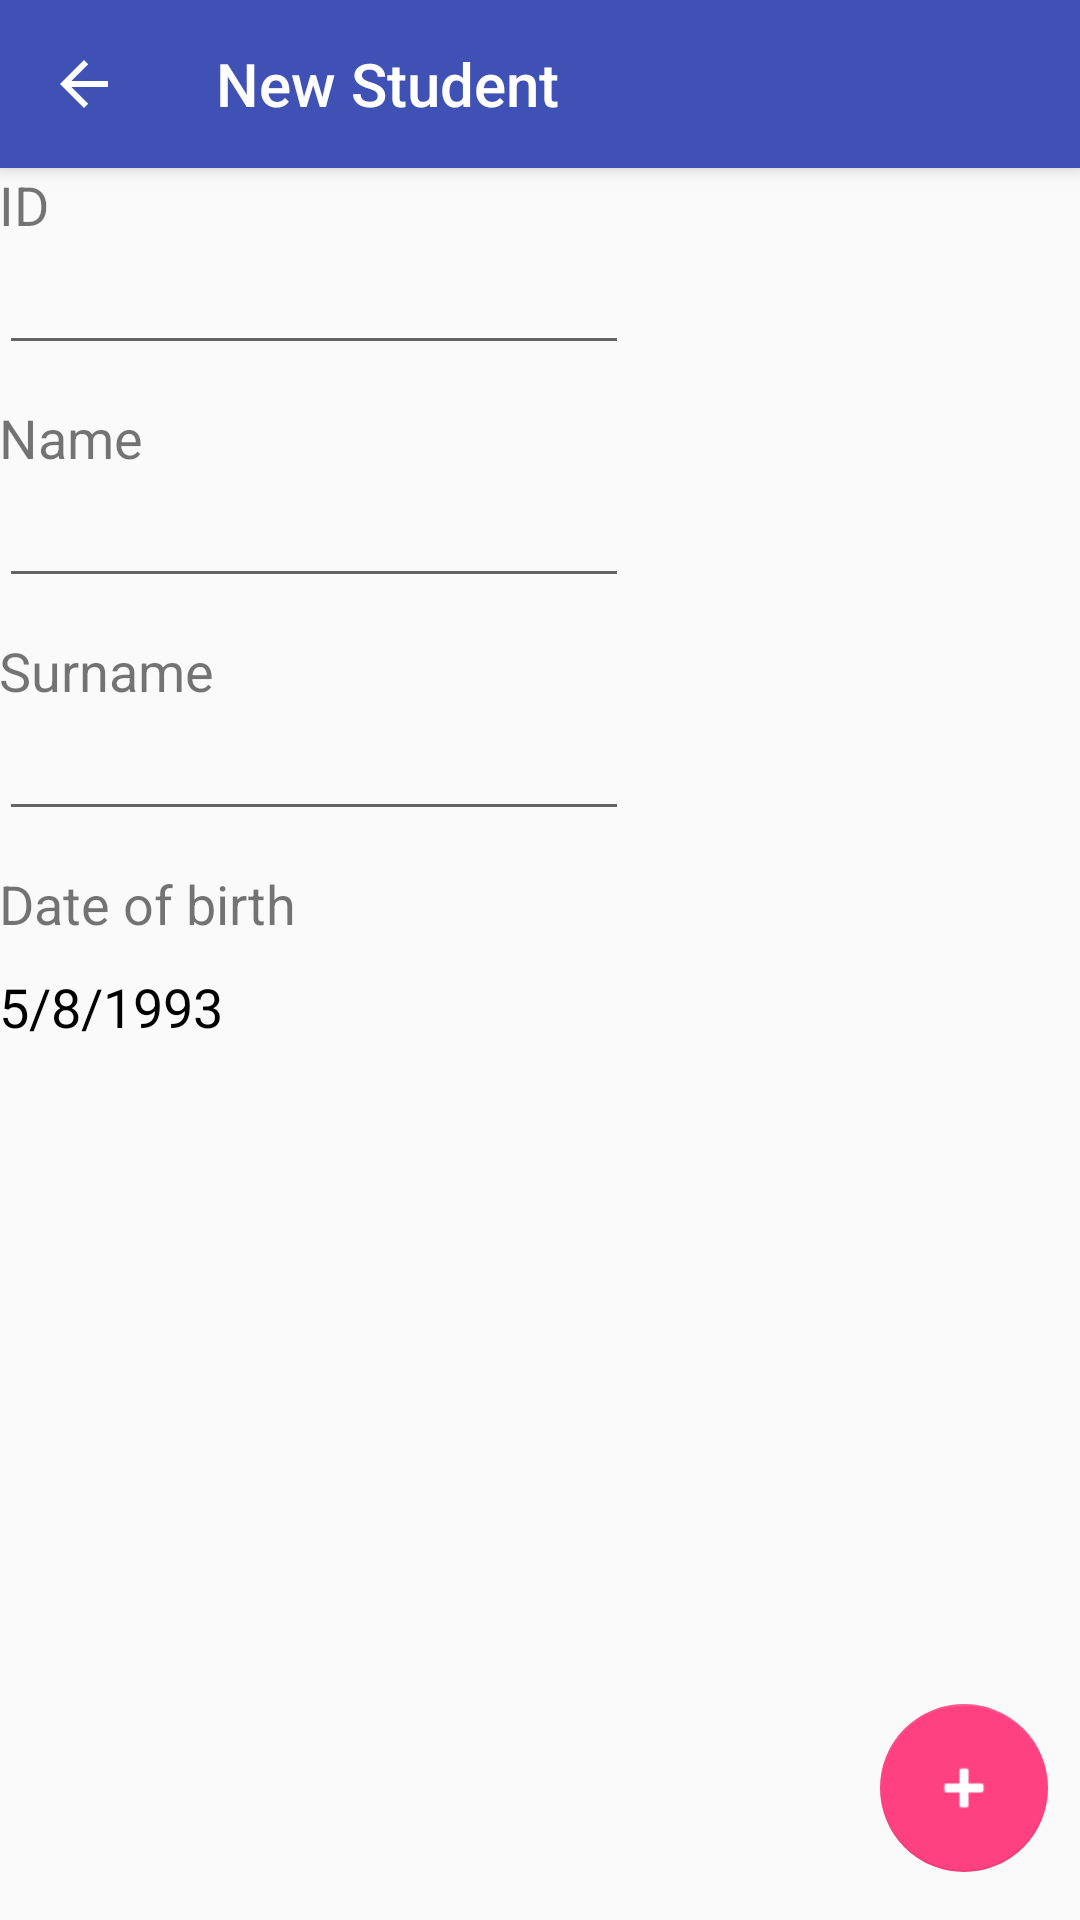

Screen size 1080px x 1920px. Icon name, then its center in pixels as point (x, y):
add: point (964, 1788)
